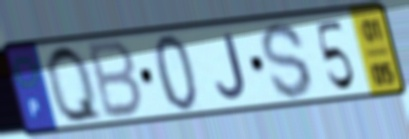0: (152, 31, 201, 114)
5: (311, 18, 357, 92)
B: (85, 38, 146, 122)
J: (213, 31, 249, 102)
Q: (43, 42, 108, 127)
S: (258, 19, 316, 102)
